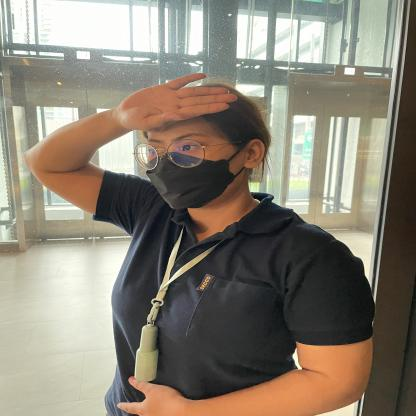Sick: (36, 60, 290, 150)
